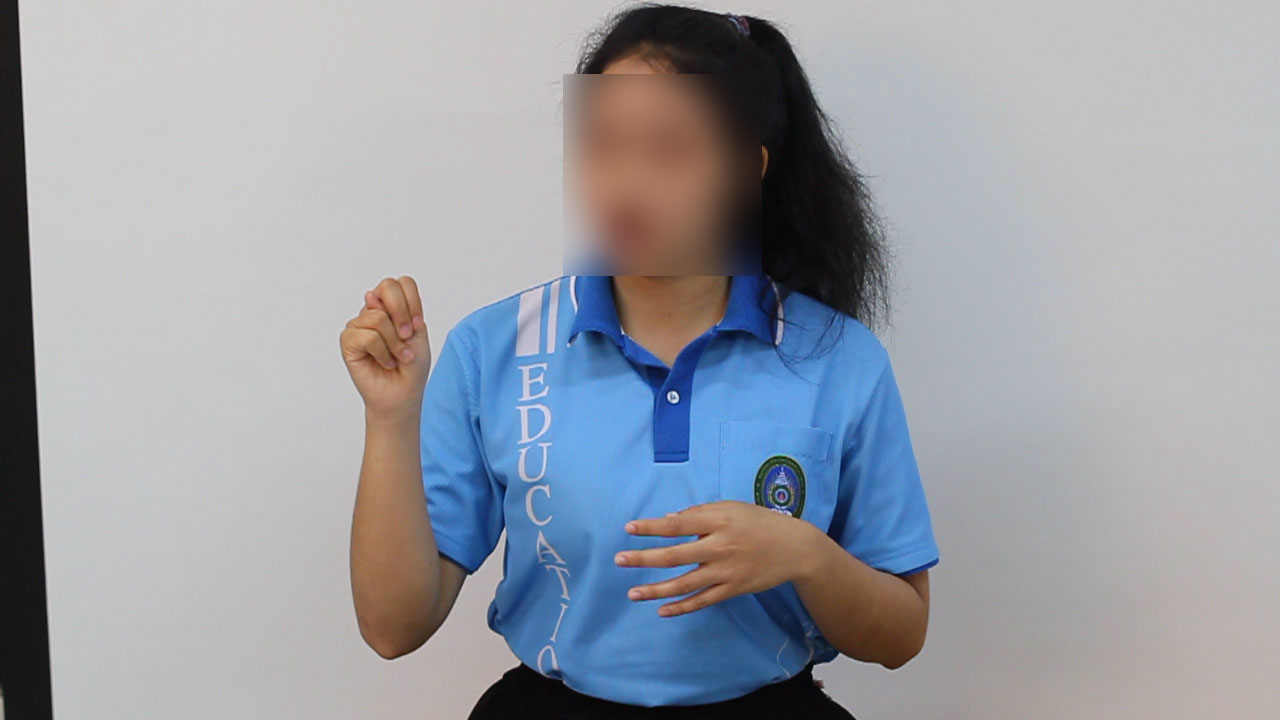nor: (336, 262, 440, 419)
